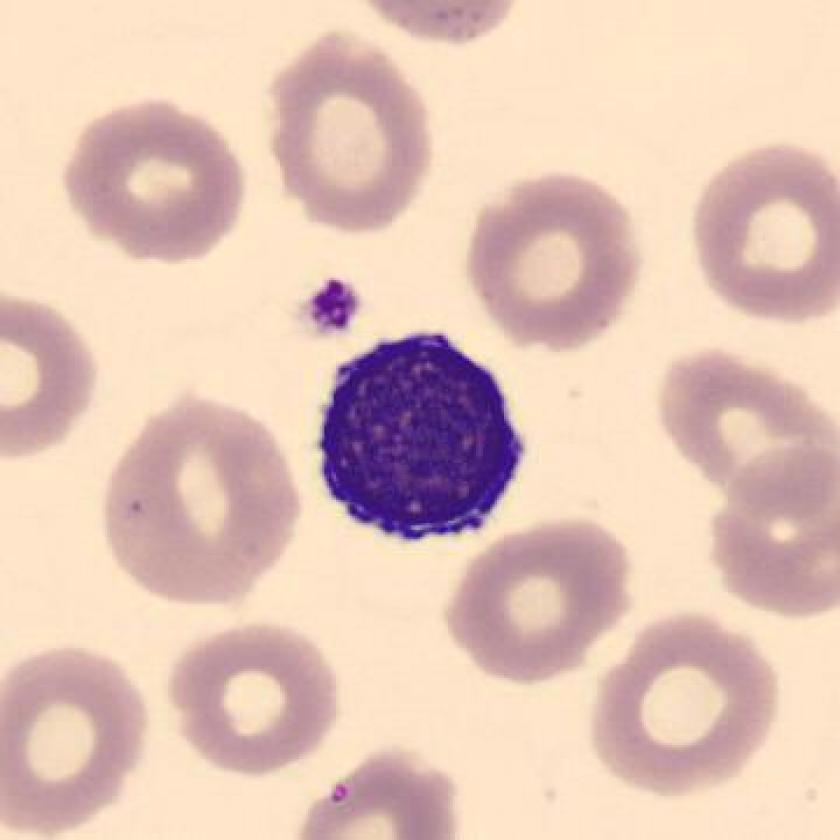lymphocyte: (305, 323, 536, 566)
